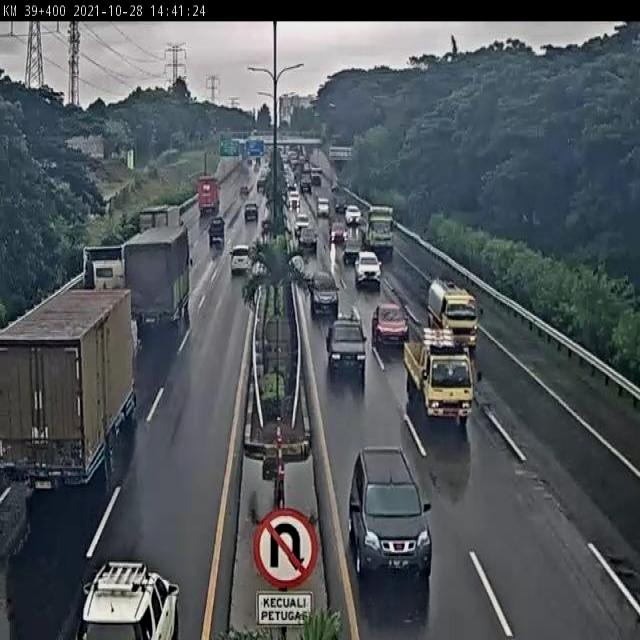Car: (349, 442, 433, 580), (79, 550, 200, 640), (325, 317, 371, 377), (369, 297, 414, 347), (308, 266, 340, 315), (355, 251, 381, 289), (227, 242, 256, 275), (295, 222, 324, 255), (325, 219, 350, 251), (343, 199, 364, 231), (208, 212, 228, 244), (243, 198, 263, 226)
Truck: (0, 300, 146, 494), (114, 223, 192, 334), (399, 332, 478, 431), (79, 237, 135, 294), (182, 168, 228, 225), (362, 200, 399, 250), (136, 196, 184, 229)
Van: (420, 276, 487, 341)
